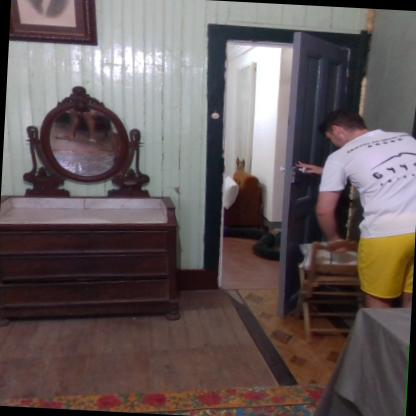semi: (186, 11, 370, 302)
